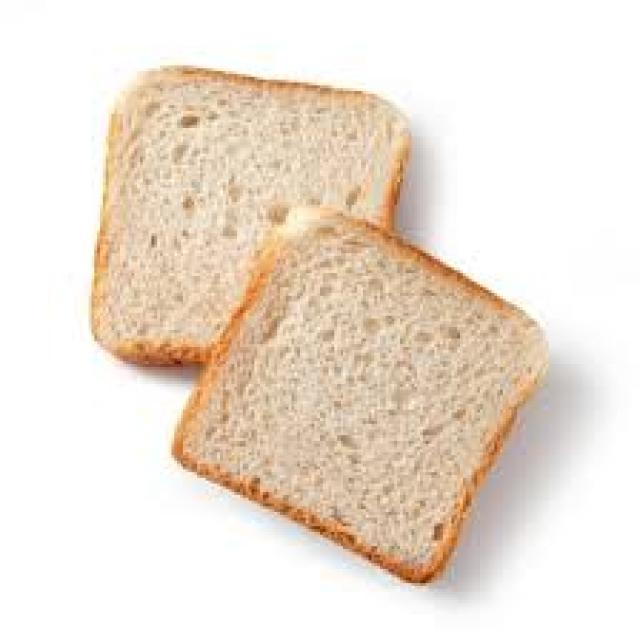Bread: (173, 222, 545, 581), (93, 66, 411, 363)
